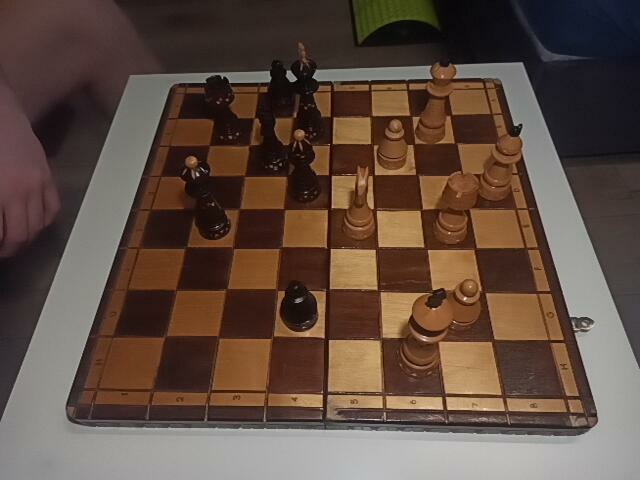B-Bishop: (288, 129, 320, 203)
B-King: (290, 43, 322, 141)
B-Knight: (256, 104, 287, 173)
B-Pawn: (280, 282, 317, 331), (267, 60, 294, 111)
B-Queen: (180, 156, 230, 239)
B-Rook: (204, 76, 243, 142)
W-Bishop: (480, 128, 523, 202)
W-King: (397, 289, 452, 378)
W-Knight: (342, 165, 376, 240)
W-Pawn: (444, 279, 481, 330), (376, 119, 409, 171)
W-Queen: (416, 58, 458, 143)
W-Rook: (435, 172, 478, 245)
